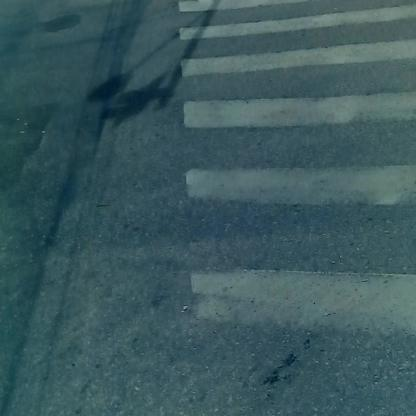crosswalk: (171, 4, 416, 398)
